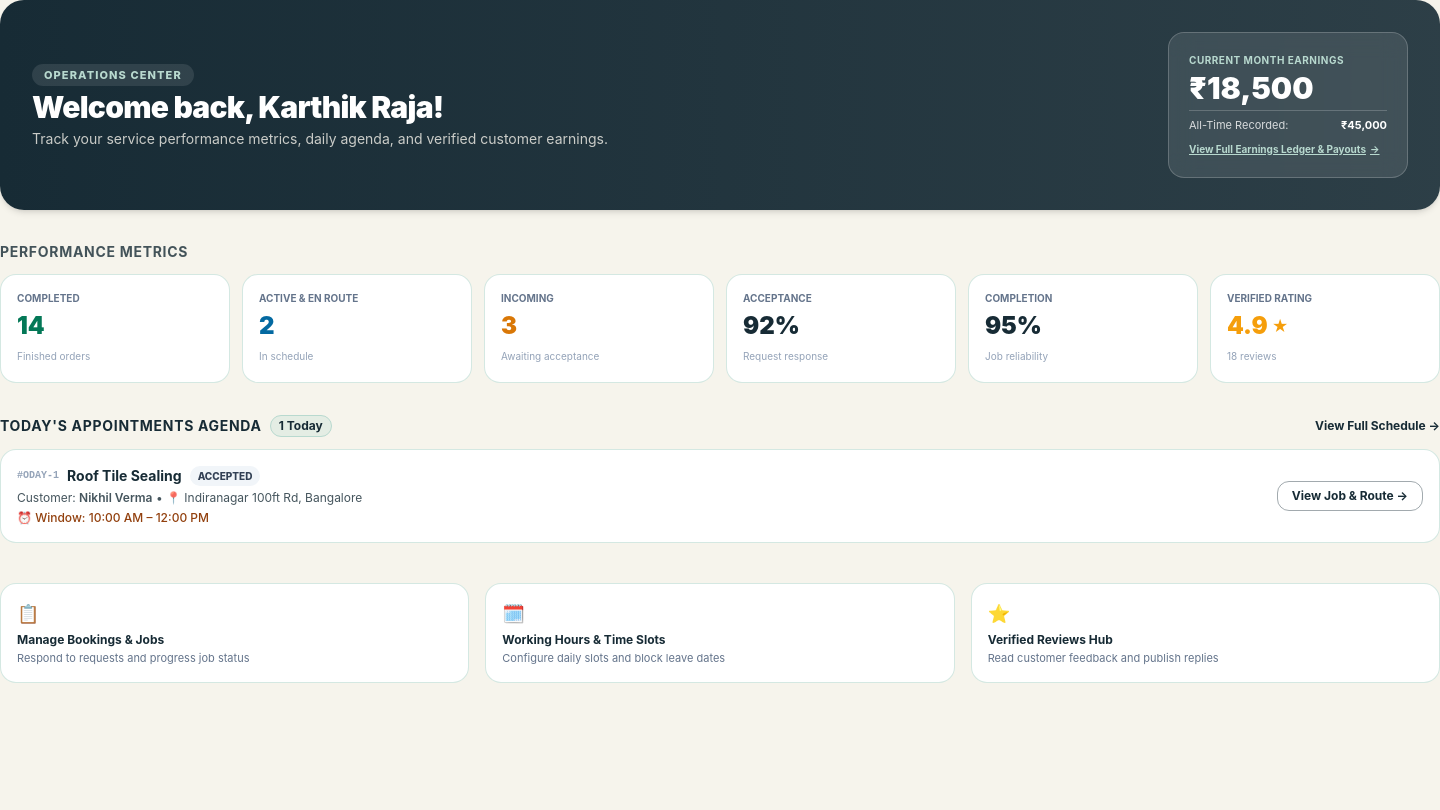
Test: ProviderDashboardOverview Component › opens job details modal when clicking on an agenda job card
Click the button "View Job & Route →" at (1350,496), box [1277,480,1423,510]
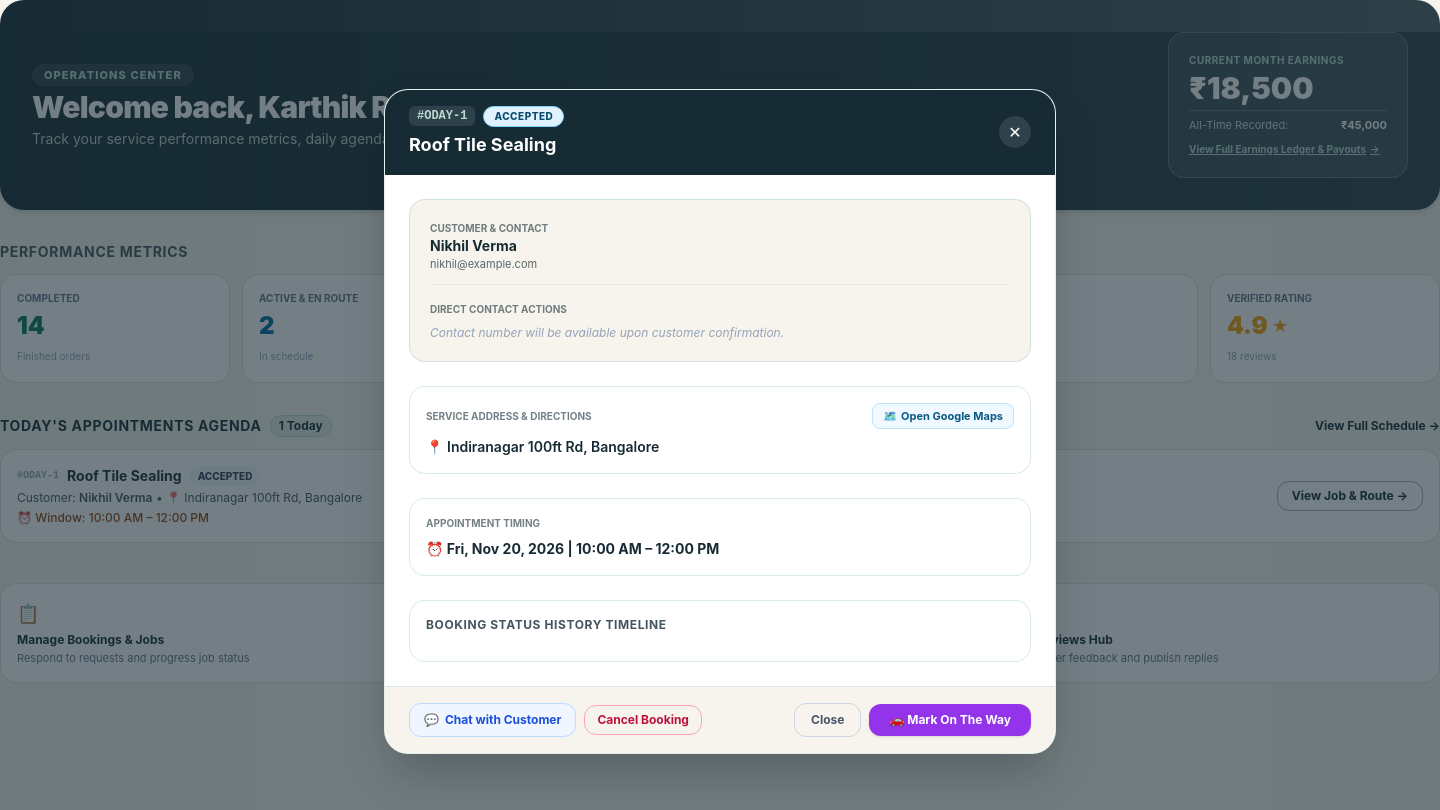
Check: the dialog is shown
